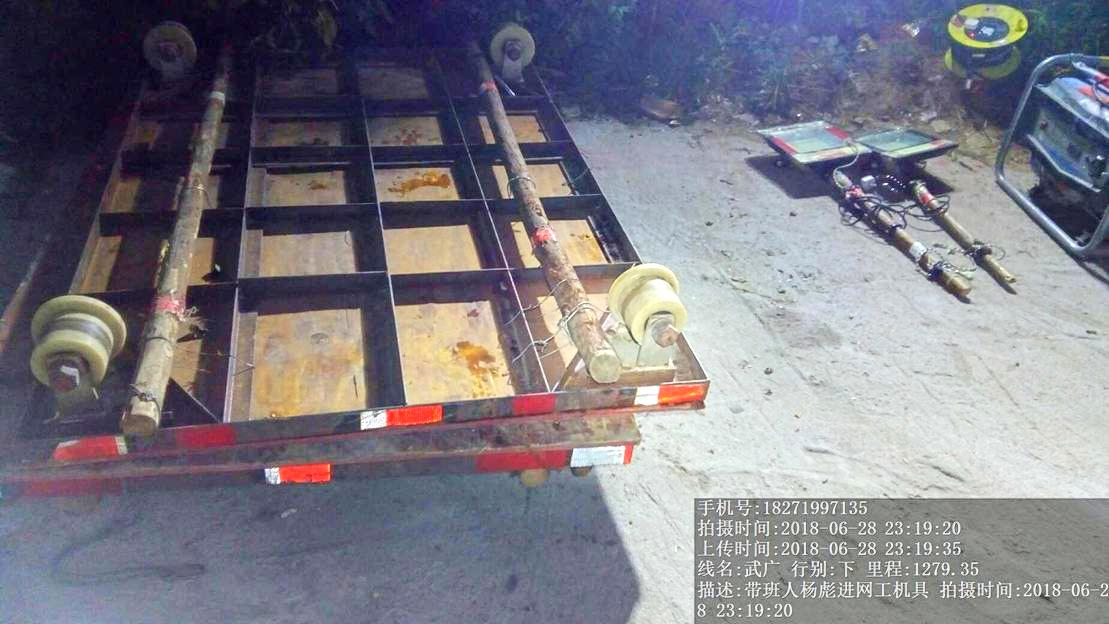DJ: (1002, 52, 1108, 264)
